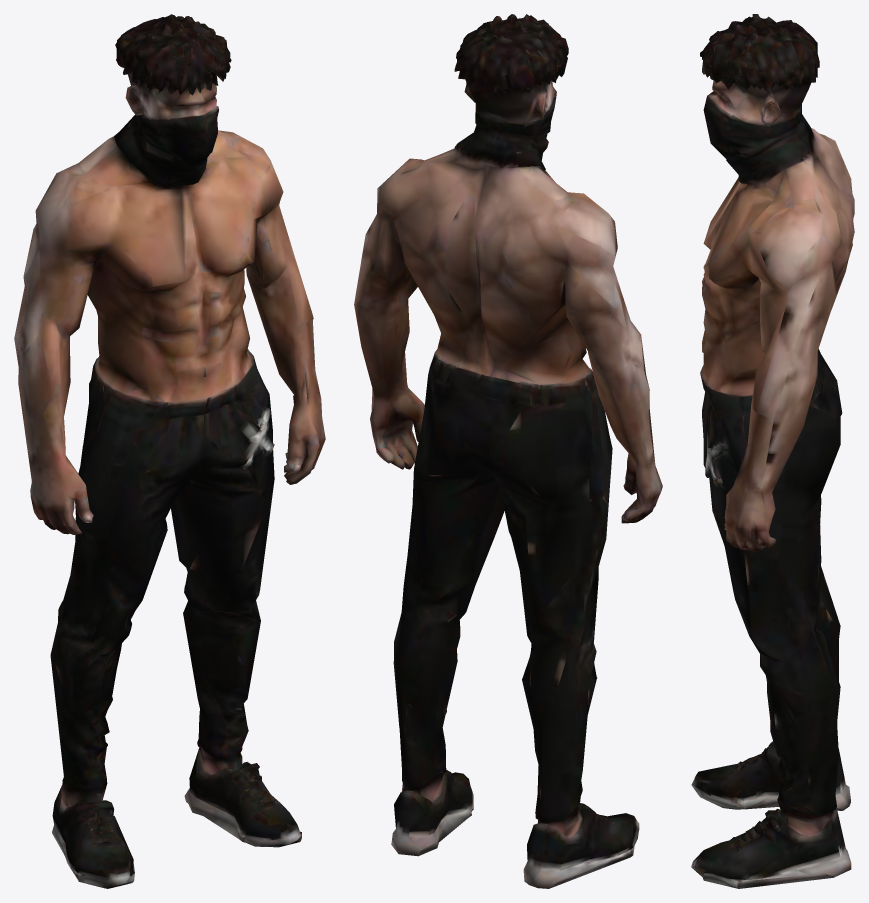
The model's file is STRIKAX6-low.glb.
The picture shows the model from 3 angles, left to right: view 1: azimuth 30°, elevation 25°; view 2: azimuth 150°, elevation 25°; view 3: azimuth 270°, elevation 25°; orthographic projection.
Visible parts, largest first — view 1: tripo_node_dd1a2aed-4f83-466d-b362-51447477e00a; view 2: tripo_node_dd1a2aed-4f83-466d-b362-51447477e00a; view 3: tripo_node_dd1a2aed-4f83-466d-b362-51447477e00a.
Boxes of the visible parts, left/top/right/bottom form: tripo_node_dd1a2aed-4f83-466d-b362-51447477e00a: left=14, top=14, right=325, bottom=888; tripo_node_dd1a2aed-4f83-466d-b362-51447477e00a: left=354, top=14, right=662, bottom=888; tripo_node_dd1a2aed-4f83-466d-b362-51447477e00a: left=691, top=14, right=854, bottom=888.
Size of the model in its own units: 0.3573 by 0.9766 by 0.1777.
Materials: 1 (1 with a texture image).
